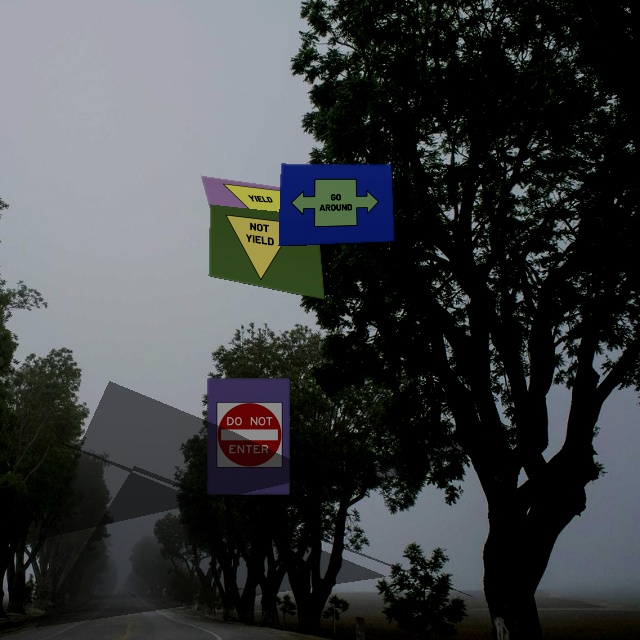DO_NOT_ENTER: (217, 402, 282, 468)
GO_AROUND: (291, 179, 380, 227)
NOT_YIELD: (224, 214, 302, 287)
YIELD: (223, 183, 307, 244)
